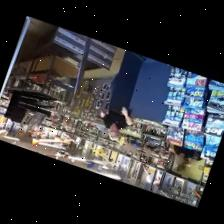person: (100, 106, 132, 139), (173, 144, 194, 164), (190, 150, 201, 164)
